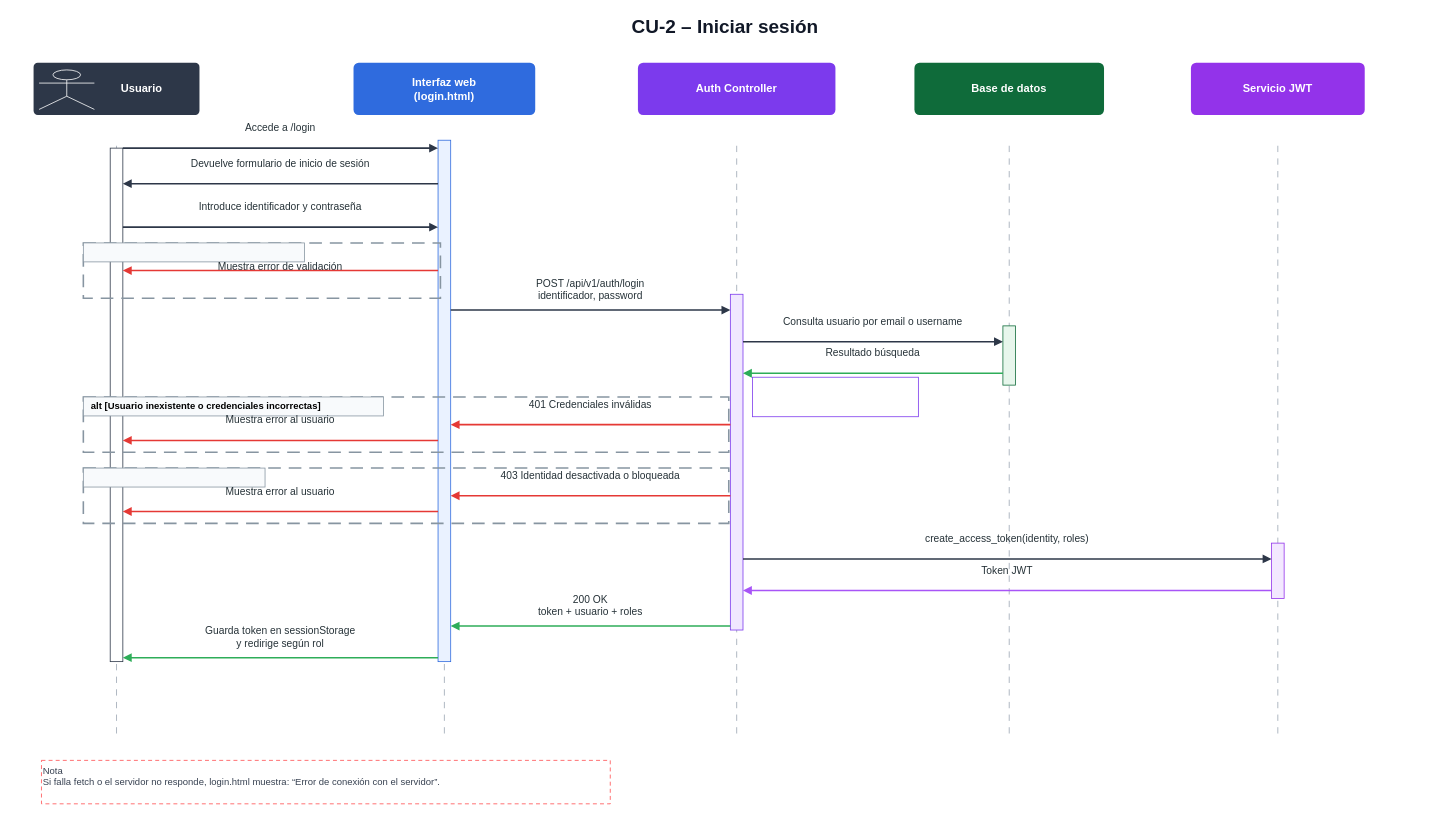
Image size: 1449x818. Some labels were removed from this diagram. Here are the shapes that lost their labels. From the top down, the box of each, then its label:
(83, 242, 305, 262): alt [Formulario HTML5 no válido]
(752, 376, 918, 417): check_password_hash() y verifica estado
(83, 467, 265, 487): alt [Cuenta no activa]
